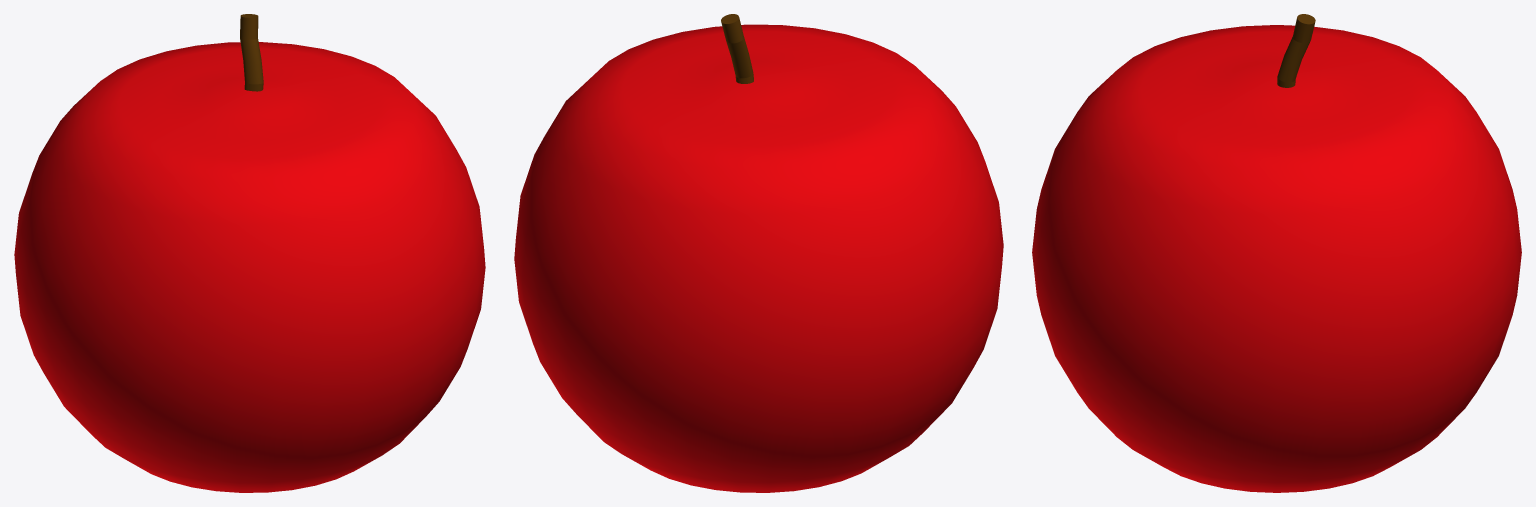
The model's file is Jabolko.fbx.
3 views of the same model, side by side, from view 1: azimuth 30°, elevation 25°; view 2: azimuth 150°, elevation 25°; view 3: azimuth 270°, elevation 25° (orthographic). The views are drawn at different scales.
Parts seen in each view (by area): view 1: Sphere, Cylinder; view 2: Sphere, Cylinder; view 3: Sphere, Cylinder.
Boxes of the visible parts, <box> form: Sphere: <box>14,42,485,492</box>; Cylinder: <box>240,14,263,91</box>; Sphere: <box>514,24,1003,492</box>; Cylinder: <box>721,14,753,83</box>; Sphere: <box>1032,25,1521,492</box>; Cylinder: <box>1277,14,1315,87</box>.
Size of the model in its own units: 441 by 433 by 441.
